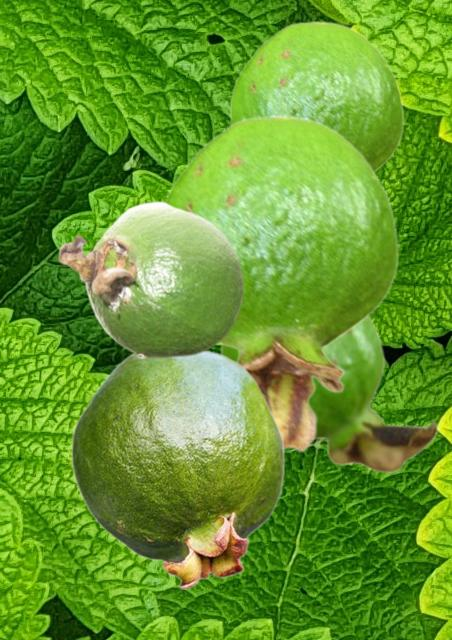guava: (162, 114, 398, 453), (70, 349, 284, 589), (219, 316, 438, 473), (57, 200, 244, 358), (229, 20, 403, 171)
